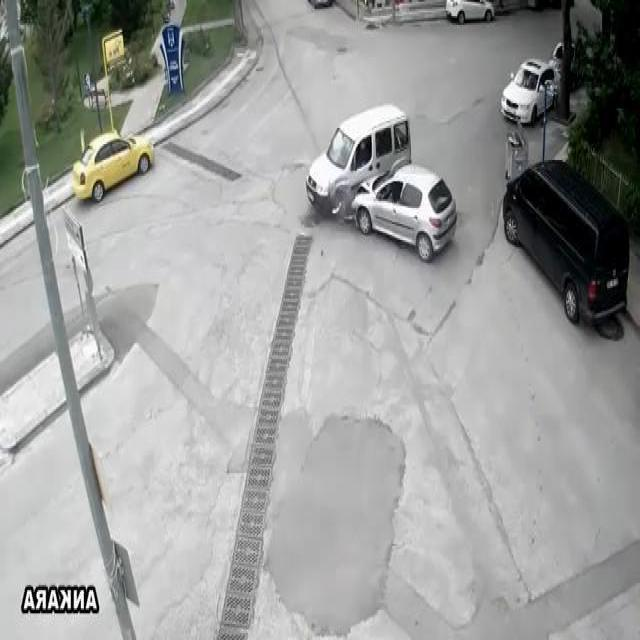accident: (306, 98, 462, 264)
